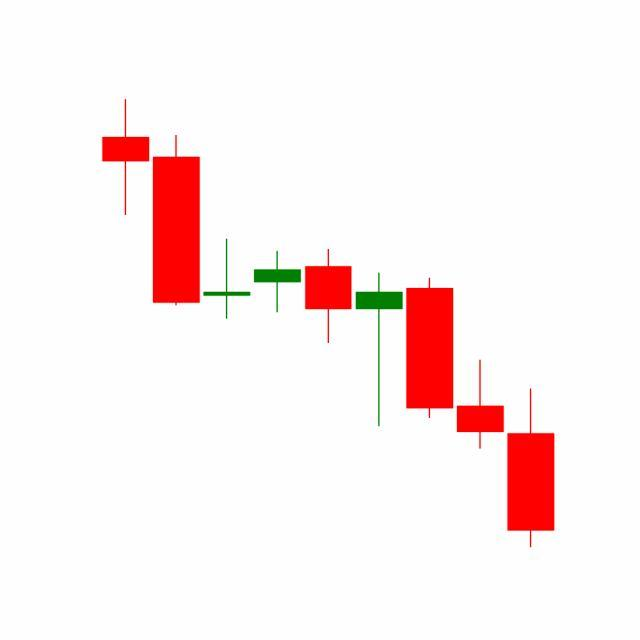Hikkake Pattern: (252, 248, 506, 453)
